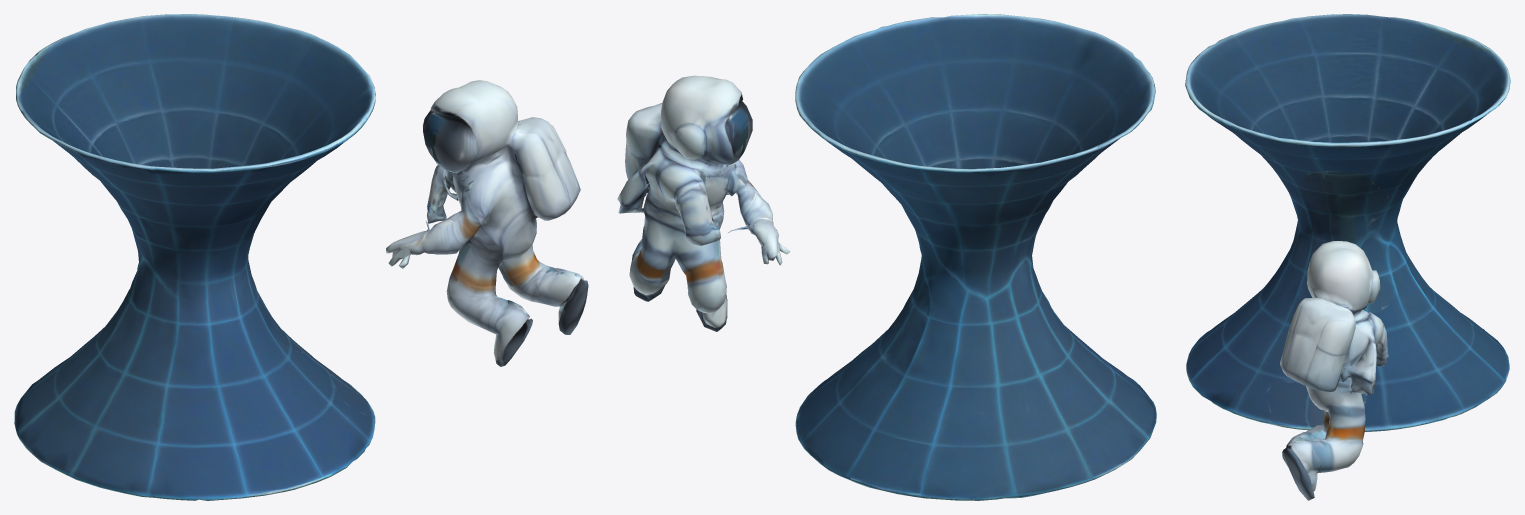
File: Exploring_the_Cosmic__0528070852_texture.glb
The picture shows the model from 3 angles, left to right: view 1: azimuth 30°, elevation 25°; view 2: azimuth 150°, elevation 25°; view 3: azimuth 270°, elevation 25°; orthographic projection. The views are drawn at different scales.
Size of the model in its own units: 2 by 1.22 by 1.24.
1 material, 1 textured.
